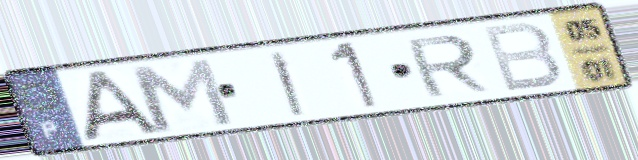1: (325, 39, 382, 112)
A: (81, 67, 163, 144)
B: (478, 19, 566, 95)
I: (265, 48, 309, 119)
M: (123, 55, 240, 135)
R: (401, 32, 494, 101)
